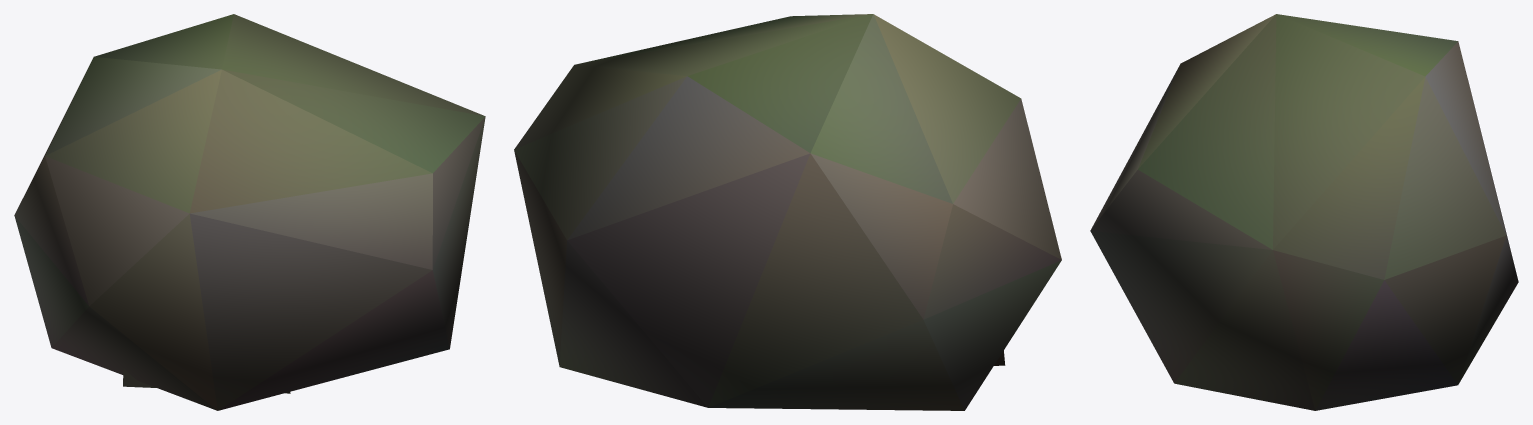
Rendered from rock_bk_foret_broceliande_0004.glb.
The picture shows the model from 3 angles, left to right: view 1: azimuth 30°, elevation 25°; view 2: azimuth 150°, elevation 25°; view 3: azimuth 270°, elevation 25°; orthographic projection. The views are drawn at different scales.
Parts seen in each view (by area): view 1: rock_bk_004; view 2: rock_bk_004; view 3: rock_bk_004.
Part boxes in pixels (<box>): rock_bk_004: <box>14,14,485,410</box>; rock_bk_004: <box>514,14,1061,410</box>; rock_bk_004: <box>1090,14,1518,410</box>.
Bounding box in the file's own units: 1.81 × 1.2 × 1.64.
